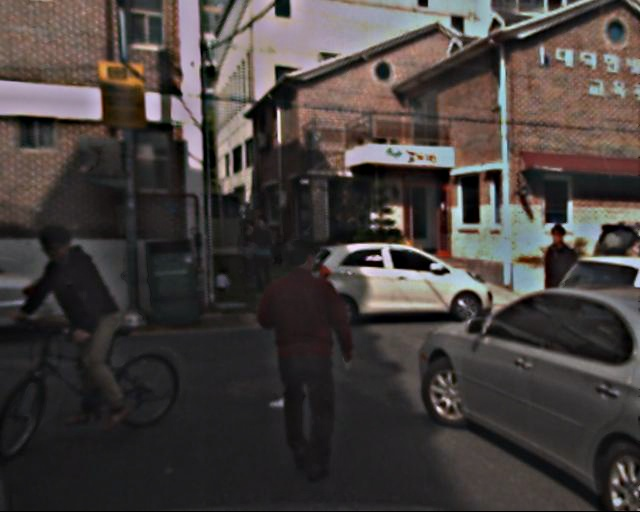person: (256, 234, 354, 481), (35, 222, 129, 427), (529, 225, 588, 368), (247, 214, 281, 294), (237, 221, 262, 277), (217, 266, 230, 298)
